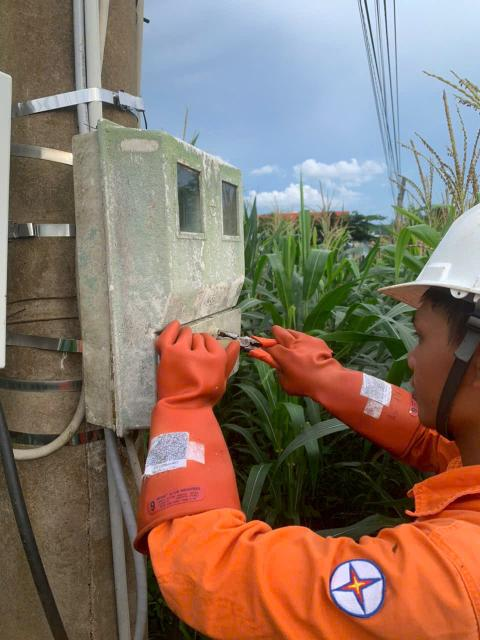gloves: (250, 323, 454, 478), (135, 318, 242, 530)
helmet: (365, 180, 480, 348)
